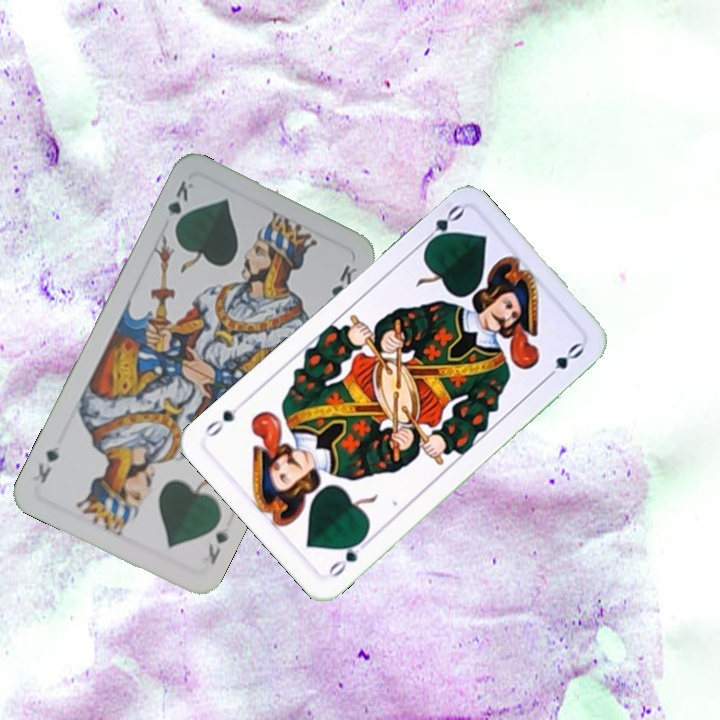GK: (163, 176, 196, 233), (204, 527, 231, 567)
GO: (416, 201, 467, 251), (323, 532, 373, 581)
